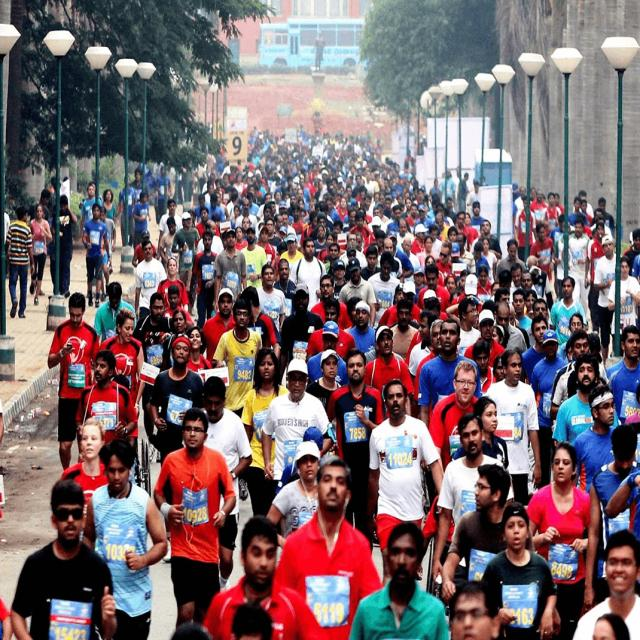body: (144, 123, 640, 327), (269, 453, 384, 640), (161, 595, 638, 640), (152, 406, 237, 632), (7, 475, 120, 639), (80, 436, 169, 639), (365, 378, 445, 588), (430, 410, 515, 601), (181, 374, 253, 594), (525, 440, 592, 640), (441, 464, 535, 605), (200, 515, 304, 640), (474, 497, 562, 639), (348, 520, 451, 639), (326, 347, 384, 557), (260, 357, 340, 497), (582, 423, 640, 612), (417, 316, 483, 476), (239, 346, 291, 537), (46, 291, 100, 473), (485, 345, 543, 507), (572, 527, 640, 640), (148, 334, 204, 469), (551, 350, 622, 450), (97, 307, 146, 451), (264, 439, 323, 552), (131, 292, 174, 446), (58, 417, 110, 544), (426, 359, 481, 479), (211, 298, 264, 420), (74, 349, 139, 445), (571, 382, 623, 493), (530, 328, 570, 462), (363, 322, 415, 422), (279, 283, 325, 385), (36, 168, 72, 297), (450, 394, 510, 468), (593, 233, 623, 369), (2, 202, 36, 320), (603, 444, 640, 551), (170, 208, 204, 323), (238, 286, 284, 368), (549, 328, 592, 414), (604, 323, 640, 425), (79, 199, 112, 309), (606, 254, 640, 360), (304, 295, 356, 363), (364, 324, 408, 402), (276, 425, 325, 495), (187, 229, 220, 332), (448, 578, 502, 639), (547, 274, 589, 352), (212, 228, 248, 316), (288, 236, 328, 315), (0, 386, 12, 640), (337, 256, 378, 329), (50, 193, 78, 299), (520, 313, 560, 387), (134, 238, 168, 322), (92, 280, 138, 342), (412, 318, 445, 403), (367, 249, 401, 330), (307, 320, 349, 385), (583, 219, 607, 332), (27, 202, 53, 306), (201, 288, 237, 363), (463, 308, 507, 368), (309, 272, 354, 330), (305, 348, 343, 412), (407, 308, 439, 384), (255, 263, 288, 336), (270, 256, 298, 334), (158, 308, 190, 374), (387, 298, 419, 364), (156, 256, 190, 314), (416, 262, 452, 312), (528, 222, 556, 282), (347, 300, 376, 354), (116, 173, 137, 247), (494, 237, 527, 283), (156, 198, 184, 252), (471, 339, 497, 395), (79, 182, 103, 242), (0, 194, 15, 290), (158, 214, 181, 275), (184, 324, 212, 374), (131, 190, 152, 250), (131, 228, 157, 270), (343, 296, 370, 333), (99, 206, 117, 258), (311, 22, 327, 78), (624, 382, 640, 434), (129, 167, 147, 204), (101, 188, 118, 225), (156, 165, 173, 201), (491, 354, 508, 383), (111, 373, 132, 393)
